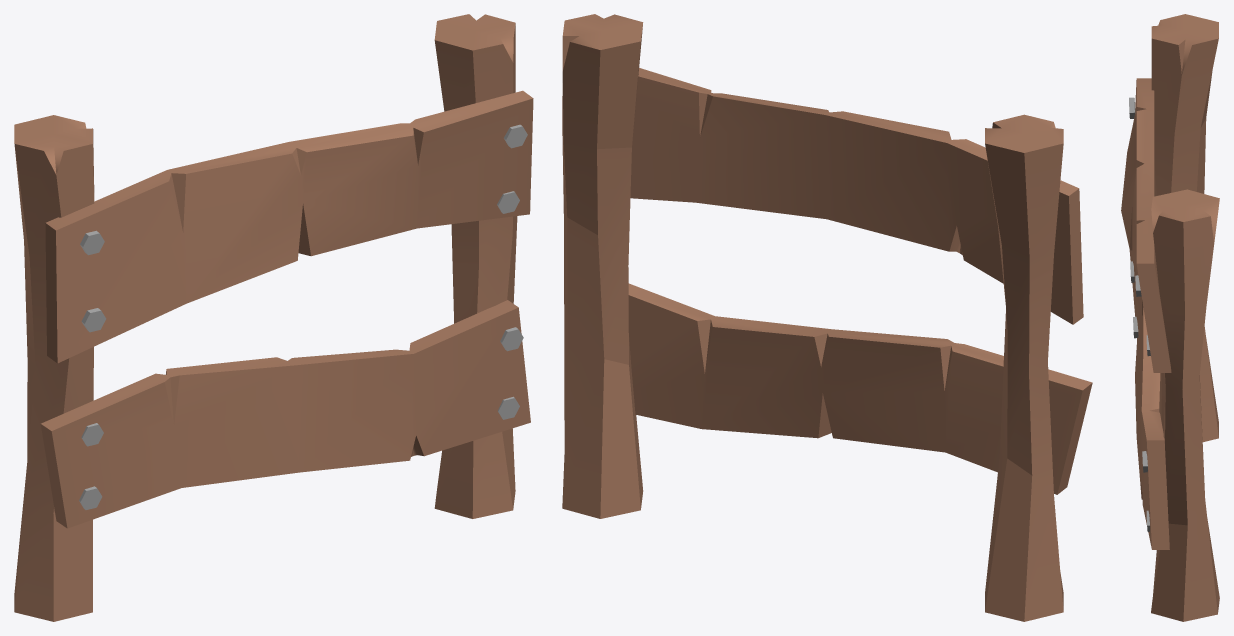
The model's file is Fence.fbx.
3 renders of one model, left to right at view 1: azimuth 30°, elevation 25°; view 2: azimuth 150°, elevation 25°; view 3: azimuth 270°, elevation 25°, orthographic. The views are drawn at different scales.
Parts seen in each view (by area): view 1: pCylinder12; view 2: pCylinder12; view 3: pCylinder12.
Boxes of the visible parts, x1,y1,x2,y2 form: pCylinder12: (14,14,533,621); pCylinder12: (562,14,1092,621); pCylinder12: (1121,14,1219,621).
Bounding box in the file's own units: 4.24 × 3.79 × 0.8488.
